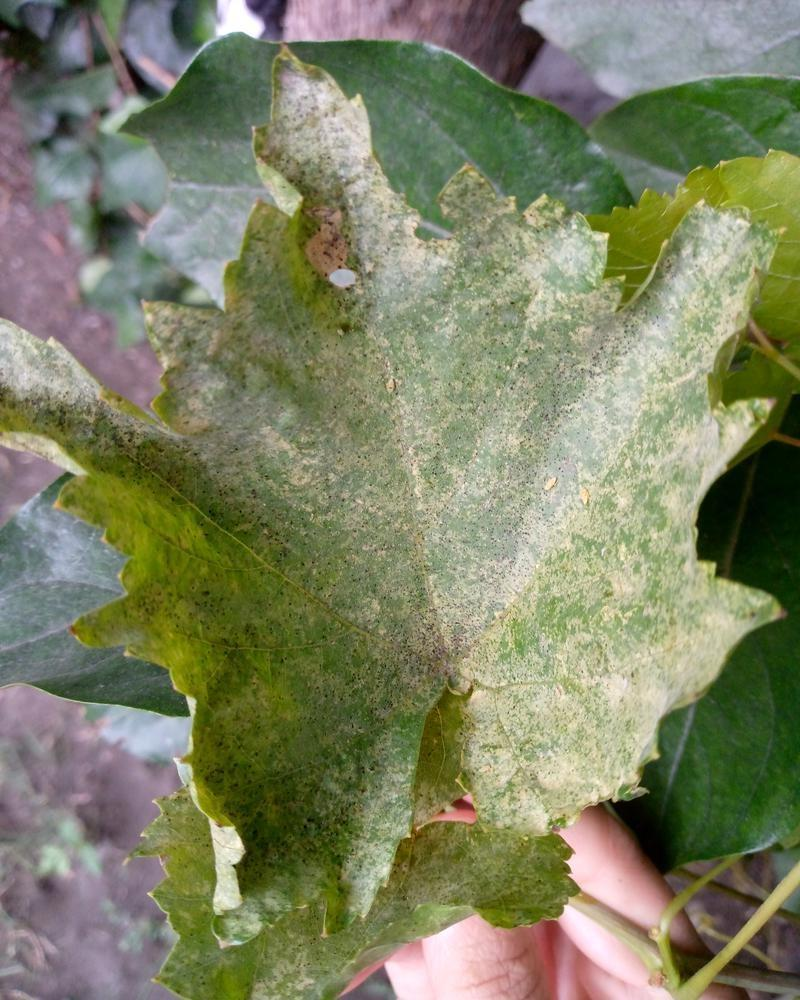Powdery-Mildew: (468, 397, 753, 847), (485, 204, 748, 591), (271, 69, 447, 323), (399, 375, 540, 538), (159, 319, 289, 467), (327, 733, 418, 914), (509, 224, 618, 374), (16, 335, 116, 454), (575, 567, 638, 630), (517, 599, 580, 662)
